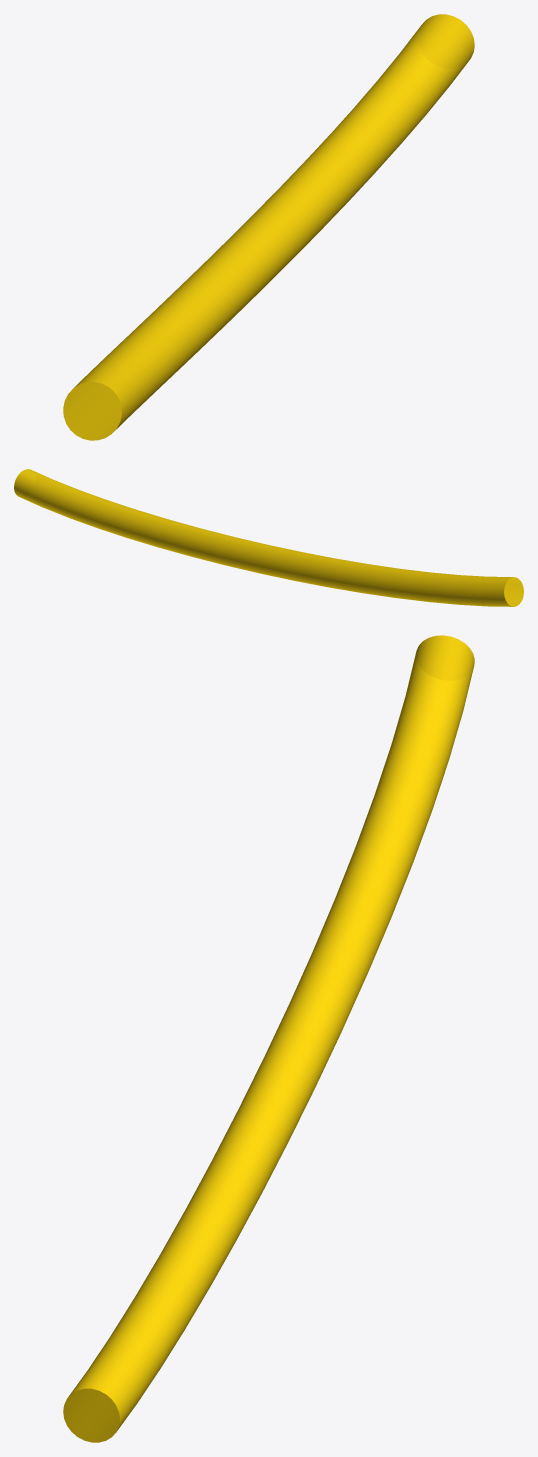
Rendered from Event_421127236_track_50.fbx.
3 views of the same model, one above another, from view 1: azimuth 90°, elevation 25°; view 2: azimuth 150°, elevation 25°; view 3: azimuth 270°, elevation 25° (orthographic). The views are drawn at different scales.
Visible parts, largest first — view 1: Model; view 2: Model; view 3: Model.
Boxes of the visible parts, x1,y1,x2,y2 form: Model: (63, 14, 474, 440); Model: (14, 469, 523, 606); Model: (63, 635, 474, 1442).
Bounding box in the file's own units: 0.9058 × 0.1826 × 0.2758.
